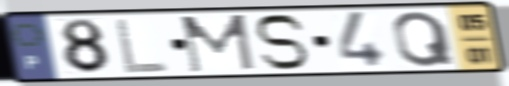4: (337, 9, 388, 72)
8: (58, 17, 113, 76)
L: (112, 16, 171, 76)
M: (177, 12, 258, 75)
Q: (390, 9, 458, 69)
S: (251, 12, 311, 72)
